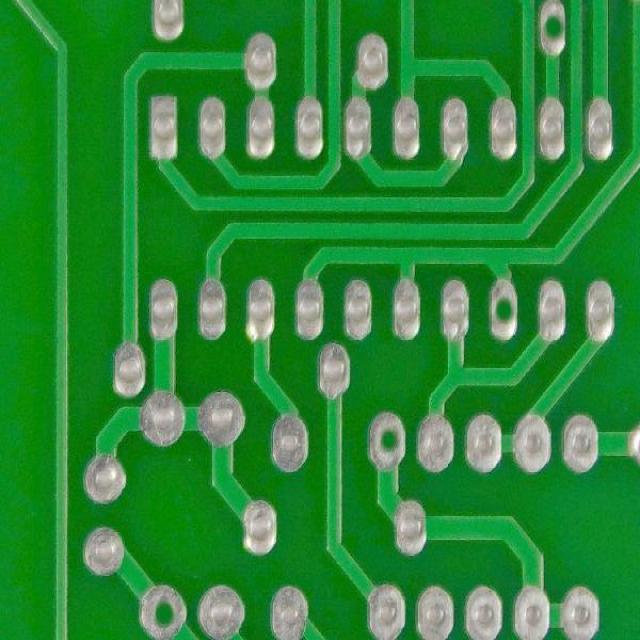missing hole: (364, 407, 410, 481), (132, 581, 190, 639), (485, 275, 522, 345), (534, 1, 571, 62)
